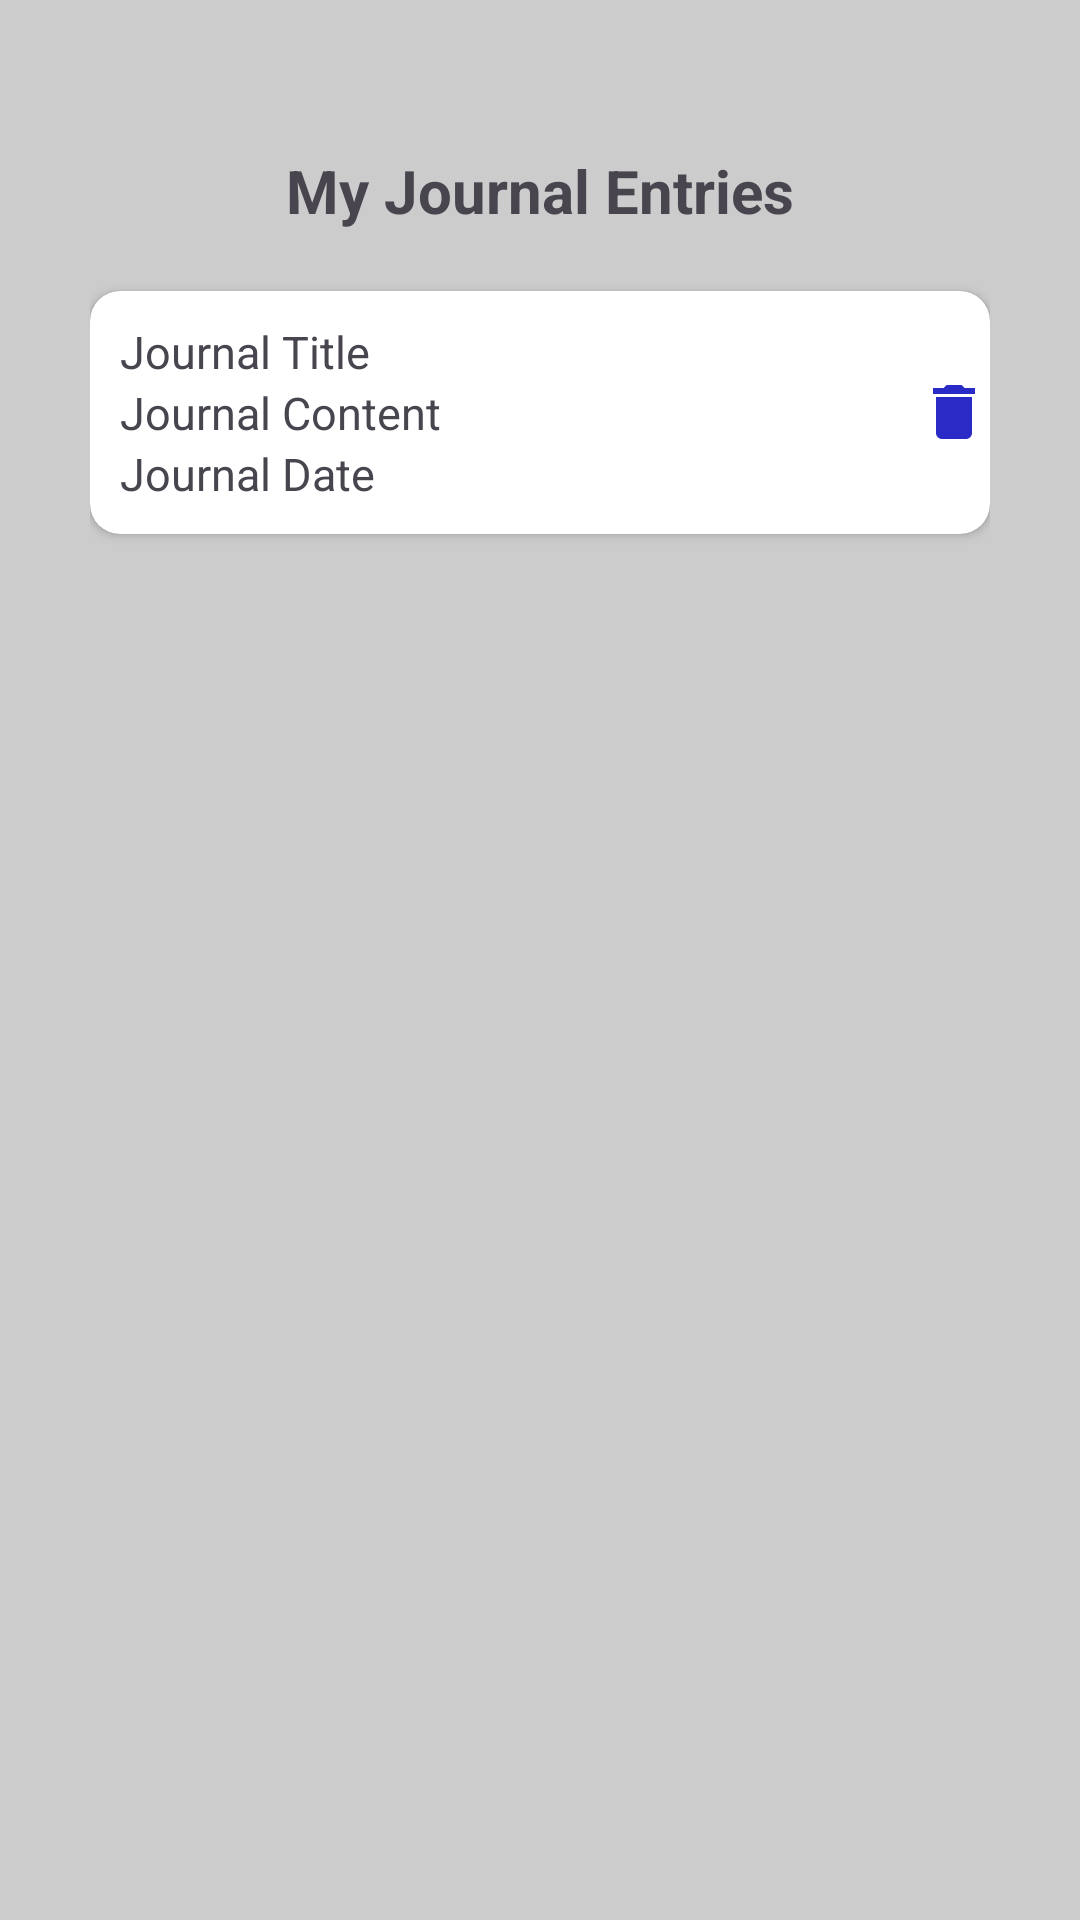

Screen size 1080px×1920px. Icon name, then its center in pixels as (x,y):
delete: (954,412)
